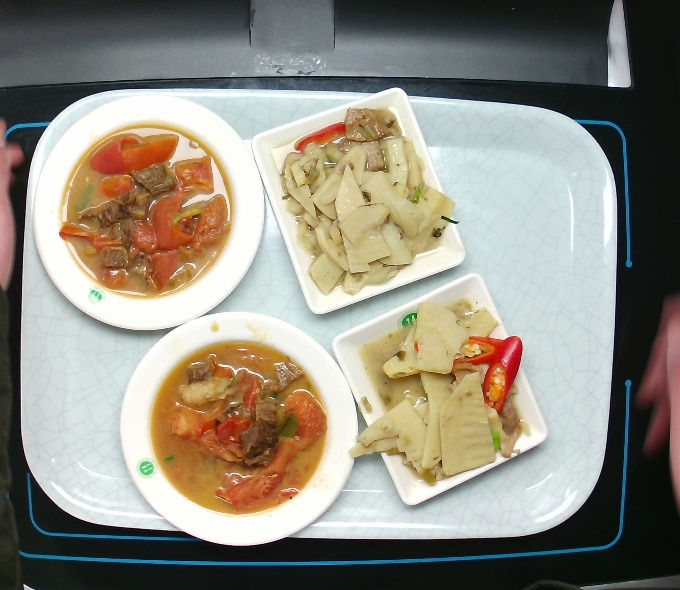wcq-DongSun: (263, 106, 467, 307), (344, 288, 535, 499)
wcq-FanQiwNiuRou: (149, 335, 330, 522), (53, 118, 234, 305)
